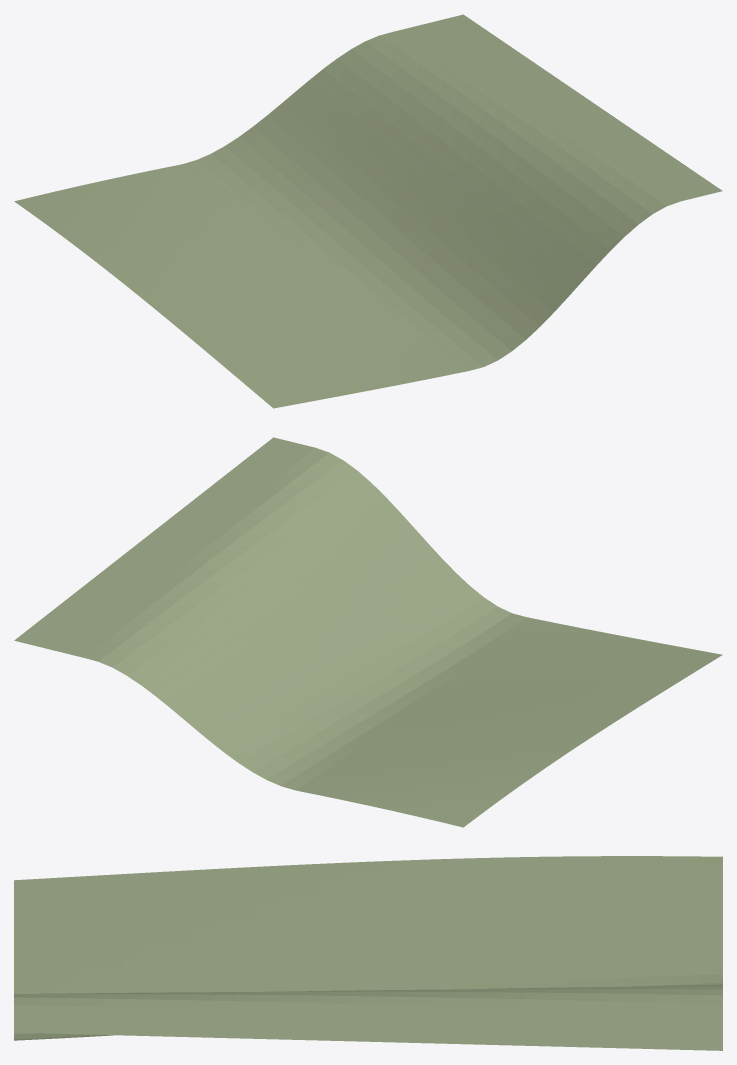
Rendered from alpine-2-9.glb.
The picture shows the model from 3 angles, top to bottom: view 1: azimuth 30°, elevation 25°; view 2: azimuth 150°, elevation 25°; view 3: azimuth 270°, elevation 25°; orthographic projection. The views are drawn at different scales.
Visible parts, largest first — view 1: alpine-2-9; view 2: alpine-2-9; view 3: alpine-2-9.
Part boxes in pixels (x1,y1,x2,y2): alpine-2-9: (14, 14, 722, 408); alpine-2-9: (14, 437, 722, 827); alpine-2-9: (14, 856, 722, 1050).
Size of the model in its own units: 256 by 64.21 by 256.
